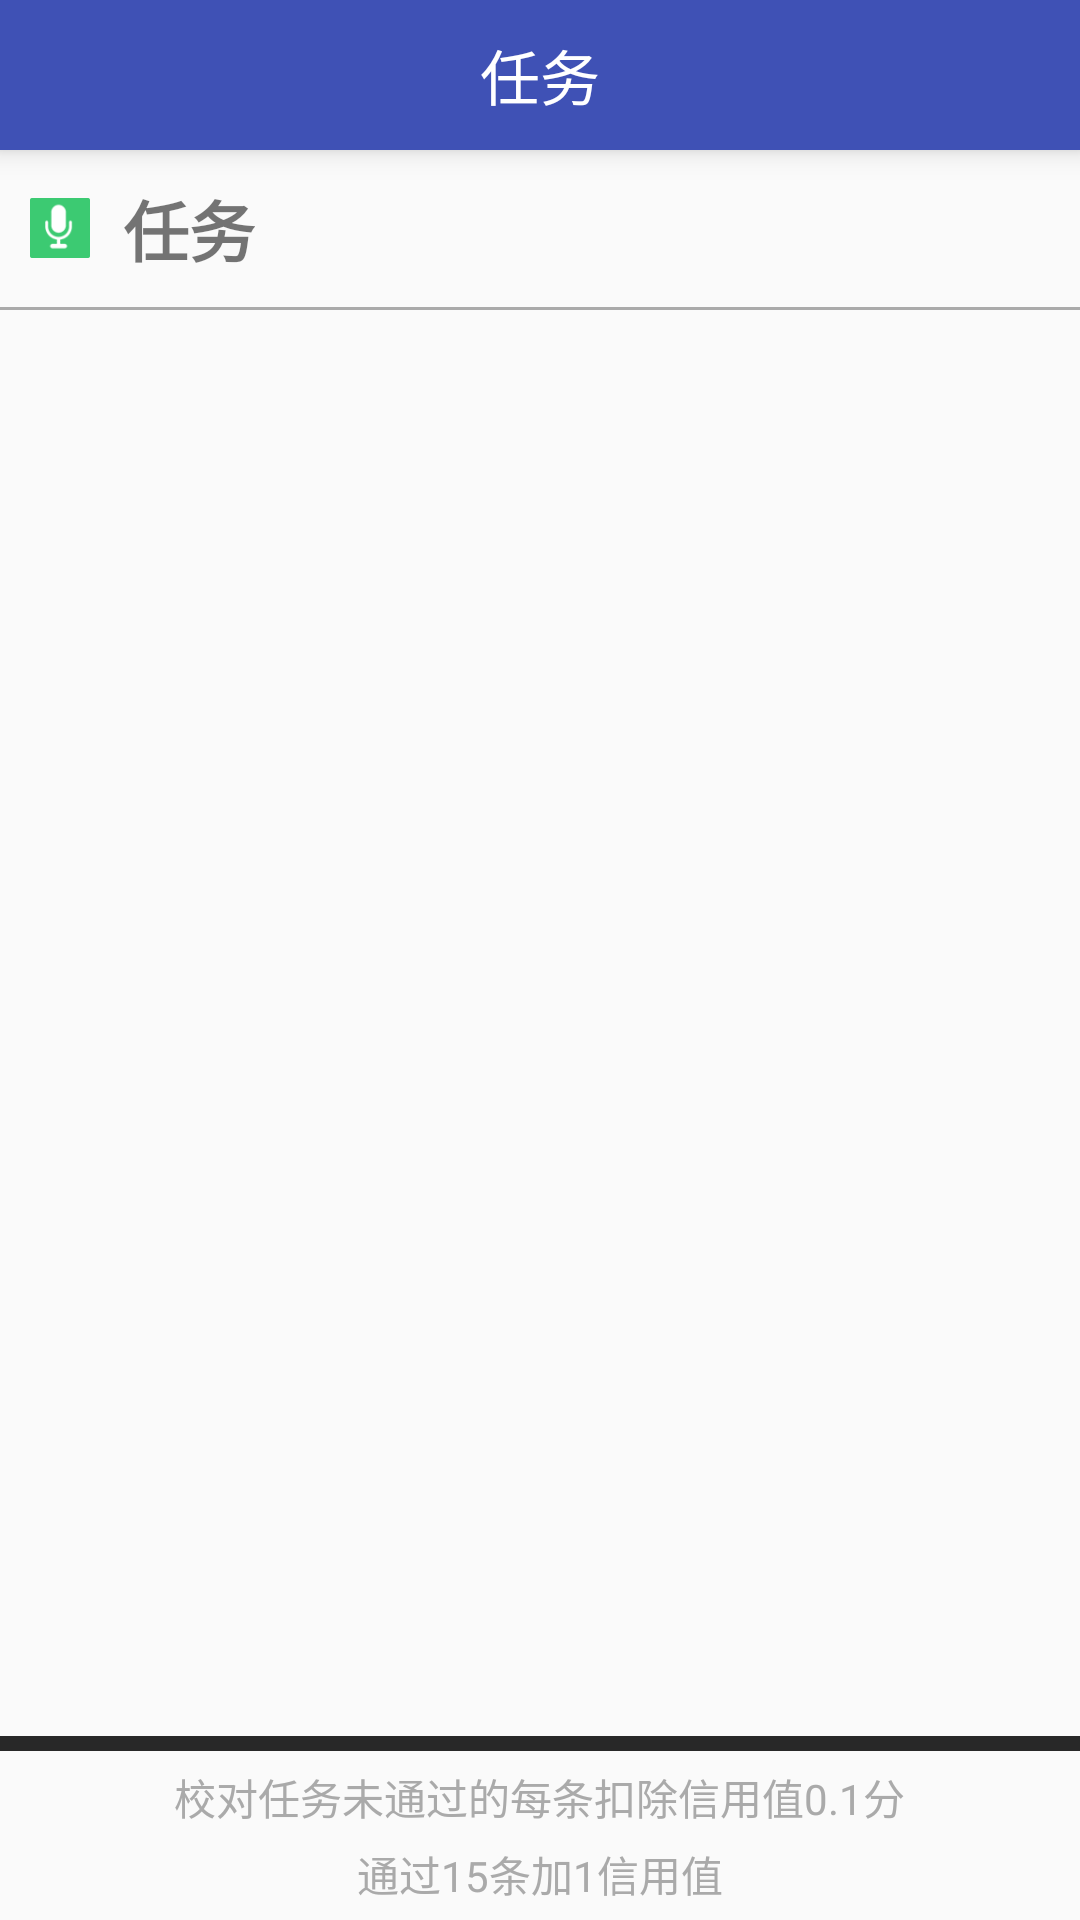

Screen size 1080px×1920px. Icon name, then its box in pixels as bbox=[x1, y1, x2, y2]:
voice: bbox=[30, 198, 90, 258]
